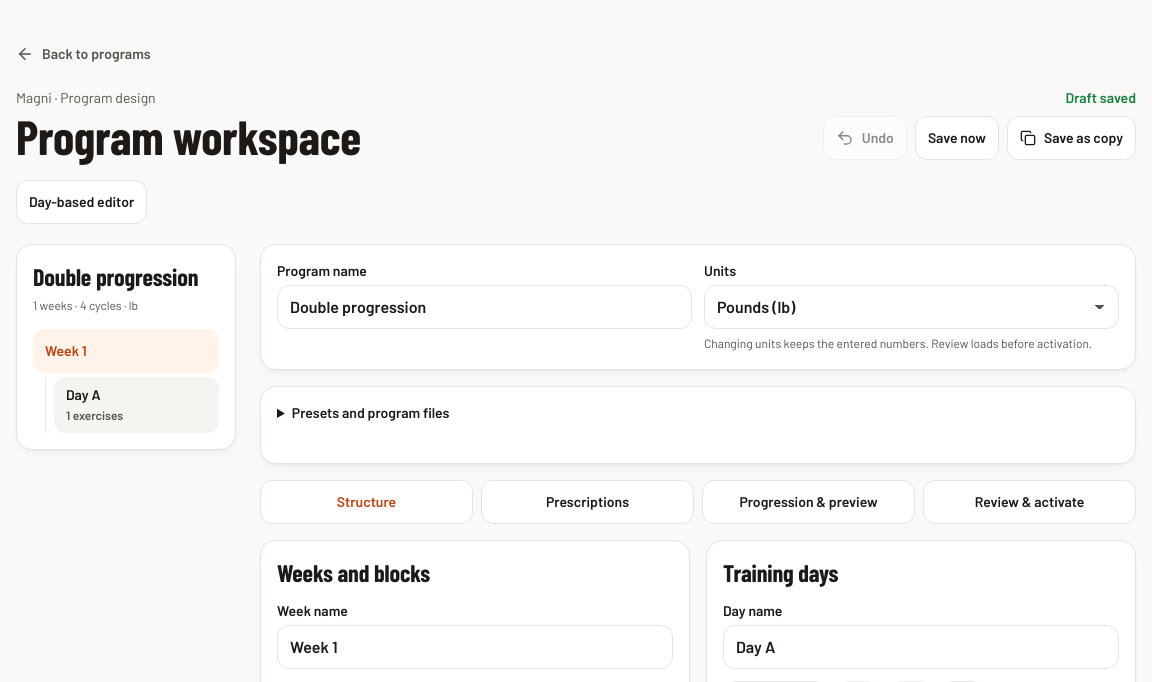
Test: program workspace recovery and authoring › clears dirty state without a write when Undo returns to the acknowledged document
Replace the text in the field labelled "Program name" with "Unsaved edit": (484, 307) [277,285,692,329]
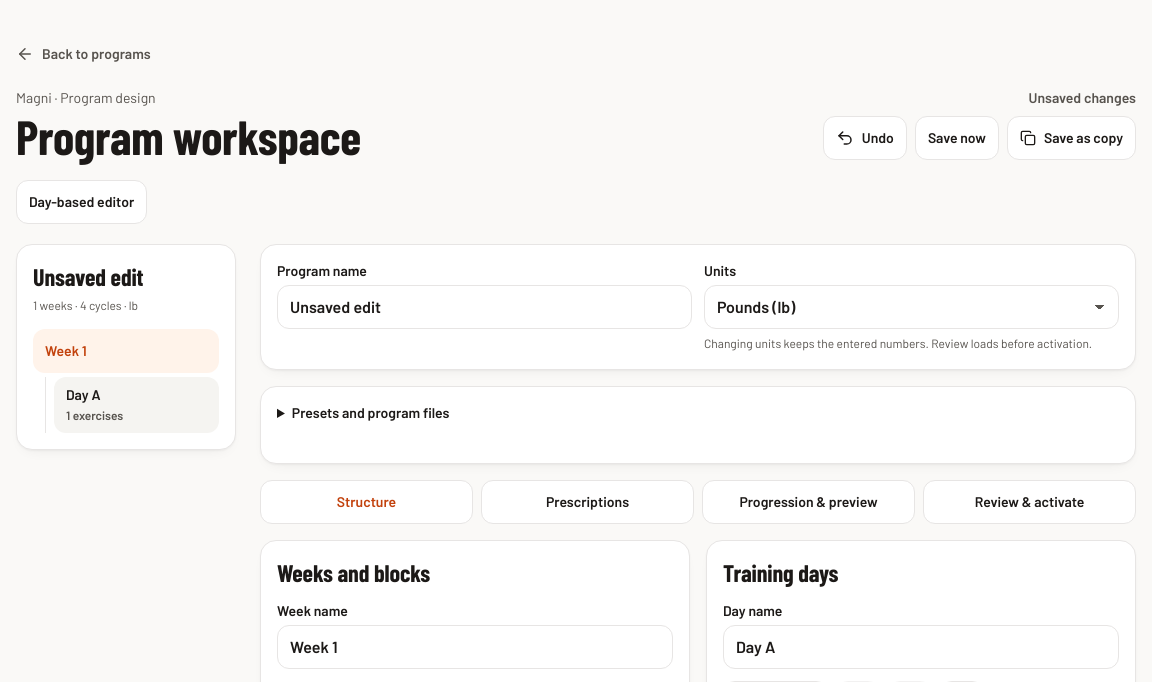
Click the button with aria-label "Undo last edit": click(865, 138) [823,116,907,160]
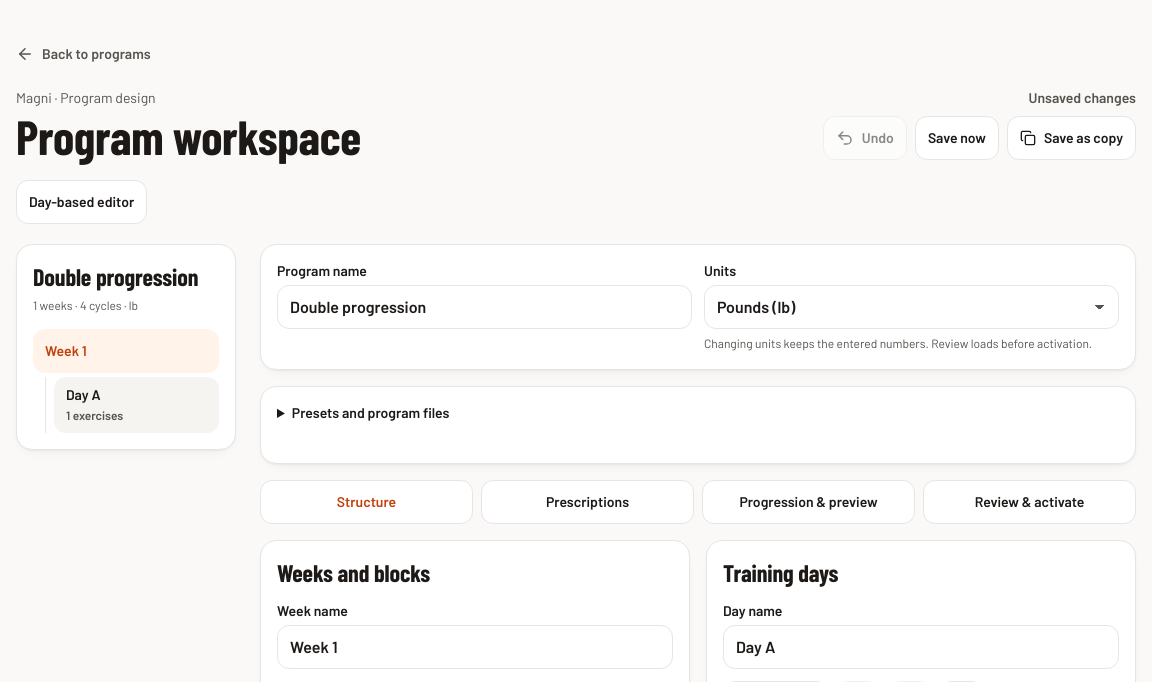
Click the button "Save now": click(957, 138) [915,116,999,160]
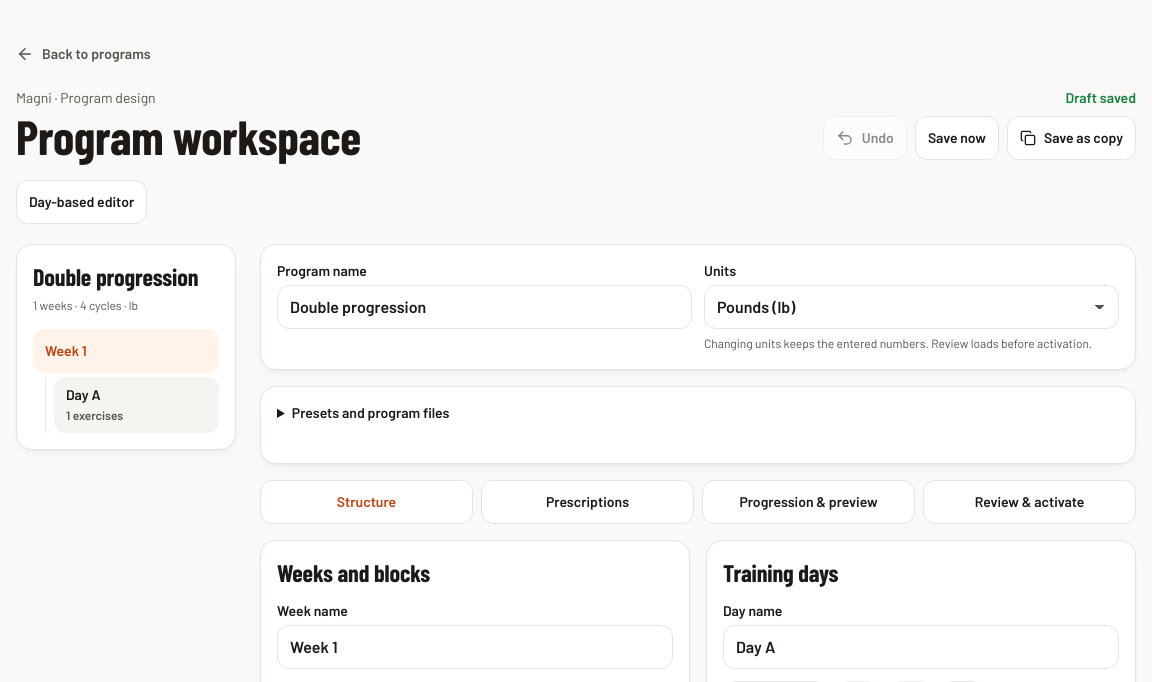
Result: the text "Draft saved" is shown at [1066,88,1136,108]
